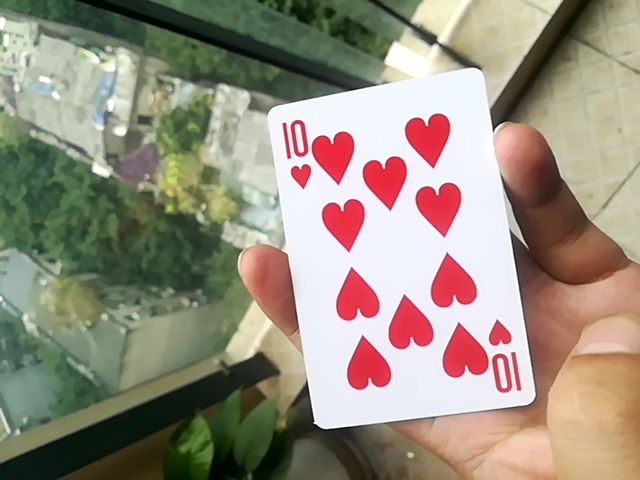hx 10: (263, 70, 529, 433)
